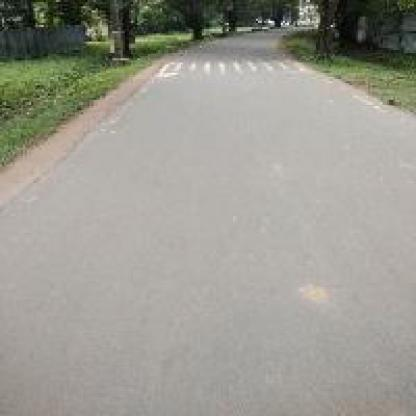Speed Bump: (158, 56, 308, 77)
